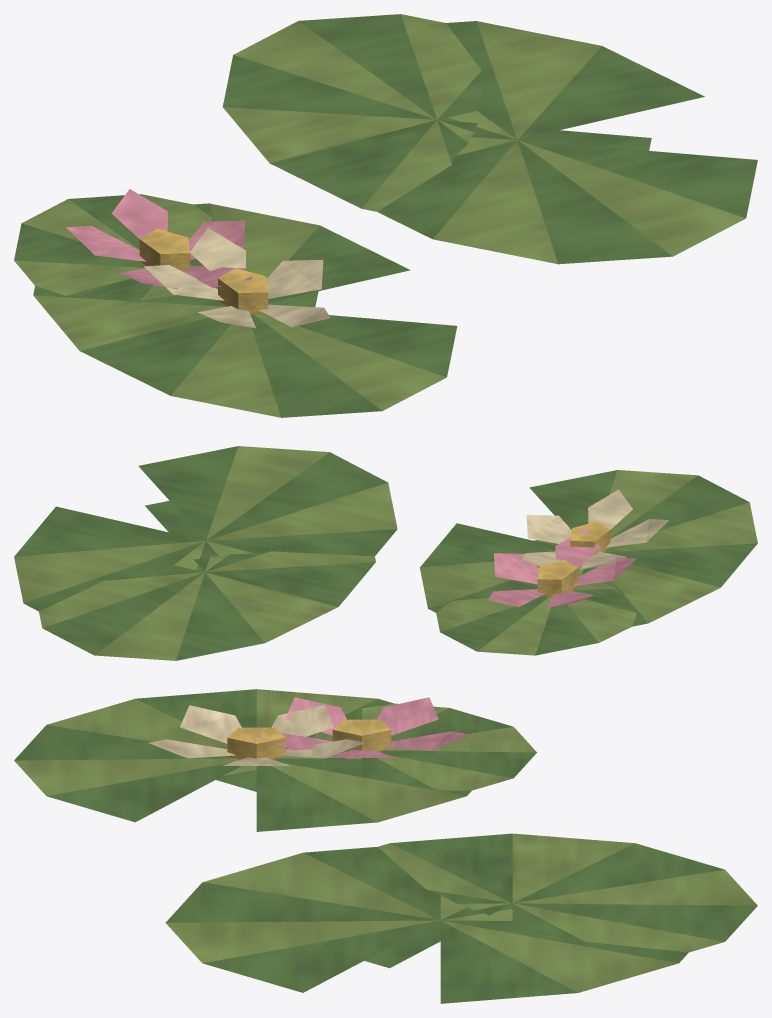
File: water_lily_set_01.fbx
3 renders of one model, top to bottom at view 1: azimuth 30°, elevation 25°; view 2: azimuth 150°, elevation 25°; view 3: azimuth 270°, elevation 25°, orthographic. The views are drawn at different scales.
Parts seen in each view (by area): view 1: water_lily_set_01; view 2: water_lily_set_01; view 3: water_lily_set_01.
Part boxes in pixels (<box>): water_lily_set_01: <box>14,14,757,417</box>; water_lily_set_01: <box>14,446,757,660</box>; water_lily_set_01: <box>14,689,757,1003</box>.
Size of the model in its own units: 120 by 5 by 120.
Materials: 1 (1 with a texture image).
